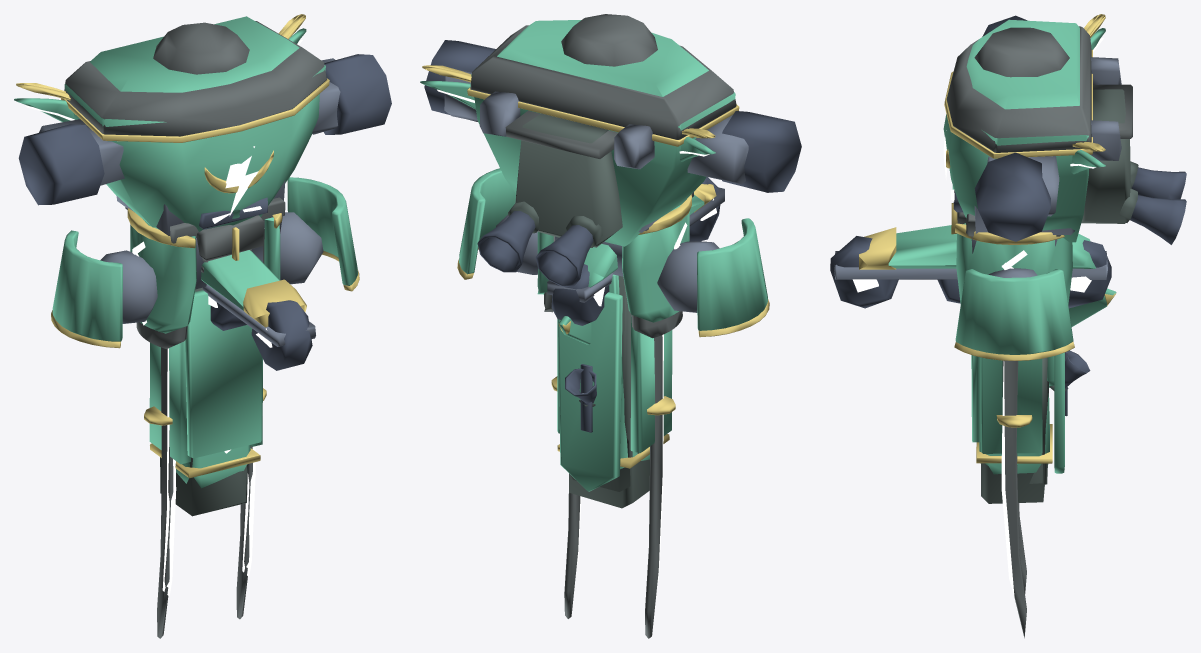
Rendered from kamaitachi-lod1.glb.
3 renders of one model, left to right at view 1: azimuth 30°, elevation 25°; view 2: azimuth 150°, elevation 25°; view 3: azimuth 270°, elevation 25°, orthographic. The views are drawn at different scales.
Visible parts, largest first — view 1: chest/P, chest/S, hipL/P, chest/D, hips/P, hips/K, shR/P, ankleL/D, hipR/P, chest/K, ankleL/P, hipL/F (+19 smaller); view 2: chest/S, chest/P, chest/D, chest/F, hipL/P, hips/P, chest/K, shR/P, hipR/P, hips/K, elR/S, hipL/F (+13 smaller); view 3: chest/S, chest/P, chest/D, hips/P, hipL/P, chest/F, ankleL/D, shL/P, elL/S, chest/K, ankleL/P, ankleL/K (+10 smaller).
Boxes of the visible parts, x1,y1,x2,y2 form: chest/P: (64, 16, 325, 231); chest/S: (64, 21, 326, 136); hipL/P: (185, 290, 262, 458); chest/D: (18, 54, 391, 205); hips/P: (52, 177, 357, 341); hips/K: (100, 212, 323, 323); shR/P: (130, 224, 196, 333); ankleL/D: (210, 300, 312, 370); hipR/P: (149, 340, 190, 464); chest/K: (39, 58, 340, 235); ankleL/P: (201, 250, 279, 310); hipL/F: (160, 287, 247, 516); chest/S: (470, 14, 736, 158); chest/P: (471, 20, 735, 246); chest/D: (424, 40, 801, 286); chest/F: (508, 113, 622, 247); hipL/P: (557, 292, 622, 491); hips/P: (459, 168, 767, 330); chest/K: (444, 70, 748, 232); shR/P: (622, 211, 689, 322); hipR/P: (630, 315, 672, 453); hips/K: (496, 214, 719, 312); elR/S: (645, 335, 662, 638); hipL/F: (569, 283, 649, 508); chest/S: (946, 26, 1132, 152); chest/P: (943, 19, 1088, 242); chest/D: (974, 15, 1186, 244); hips/P: (955, 269, 1073, 354); hipL/P: (971, 352, 1064, 473); chest/F: (1081, 89, 1138, 223); ankleL/D: (830, 236, 1111, 308); shL/P: (956, 223, 1072, 304); elL/S: (1002, 360, 1026, 638); chest/K: (974, 57, 1121, 235); ankleL/P: (888, 225, 1095, 268); ankleL/K: (834, 251, 1107, 279).
Size of the model in its own units: 3.07 by 5.12 by 2.86.
